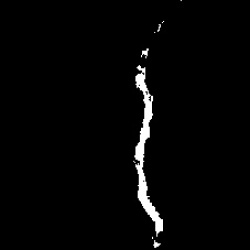crack: (133, 66, 163, 237), (151, 237, 160, 246), (156, 22, 161, 32), (142, 49, 147, 56)
